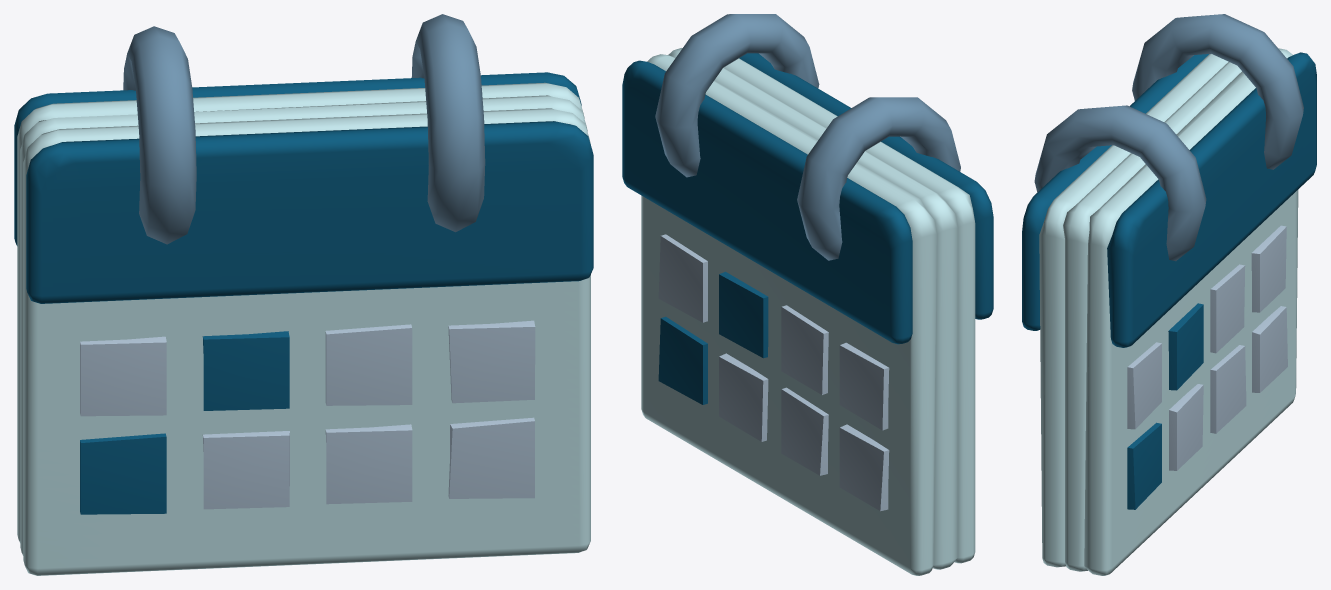
3 renders of one model, left to right at view 1: azimuth 30°, elevation 25°; view 2: azimuth 150°, elevation 25°; view 3: azimuth 270°, elevation 25°, orthographic. The views are drawn at different scales.
Visible parts, largest first — view 1: model_1.007; view 2: model_1.007; view 3: model_1.007.
Part boxes in pixels (x1,y1,x2,y2): model_1.007: [14, 14, 593, 575]; model_1.007: [622, 14, 993, 575]; model_1.007: [1022, 14, 1316, 575].
Bounding box in the file's own units: 4 × 4.01 × 2.52.
